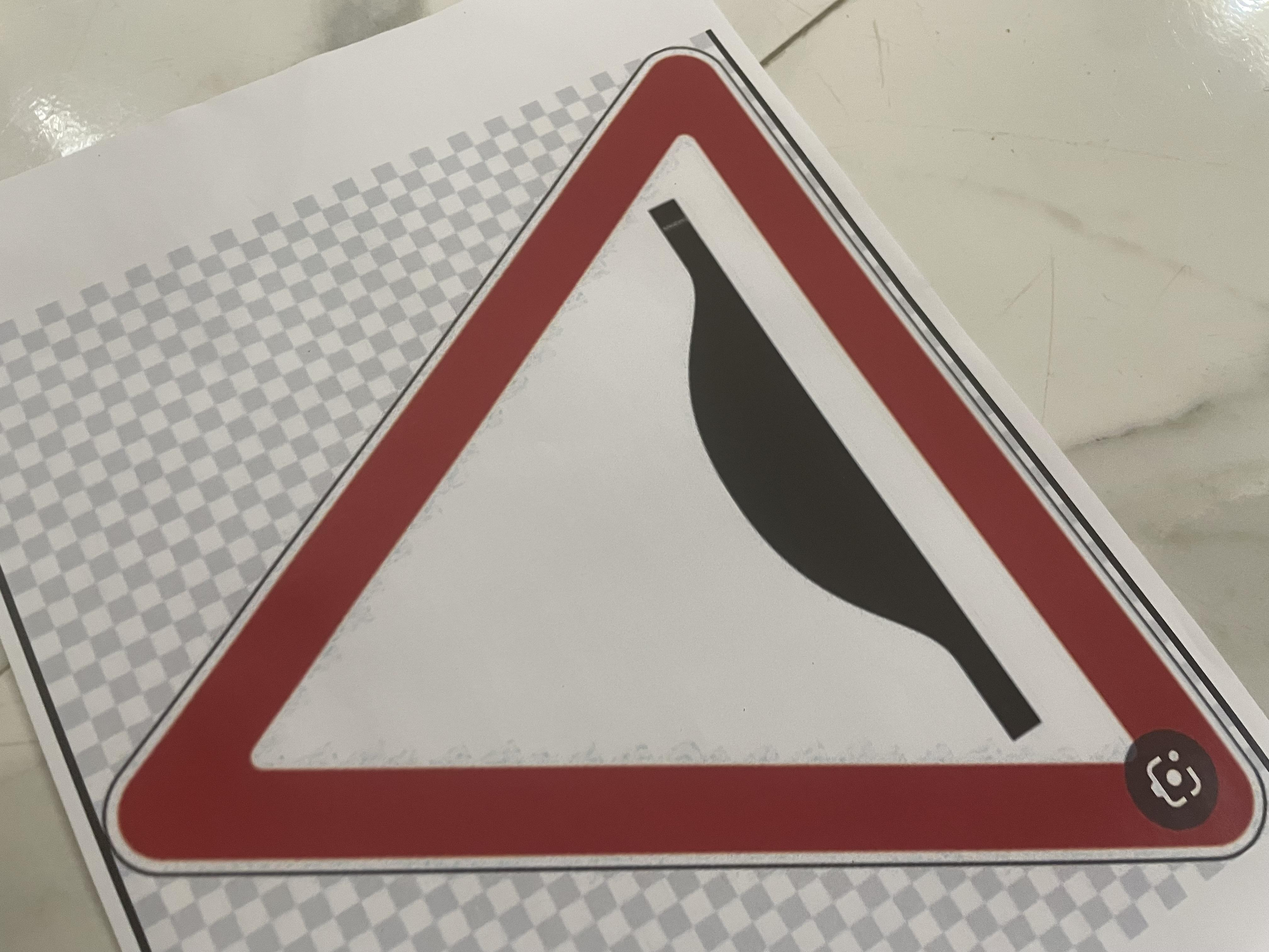Hump: (83, 76, 1209, 948)
